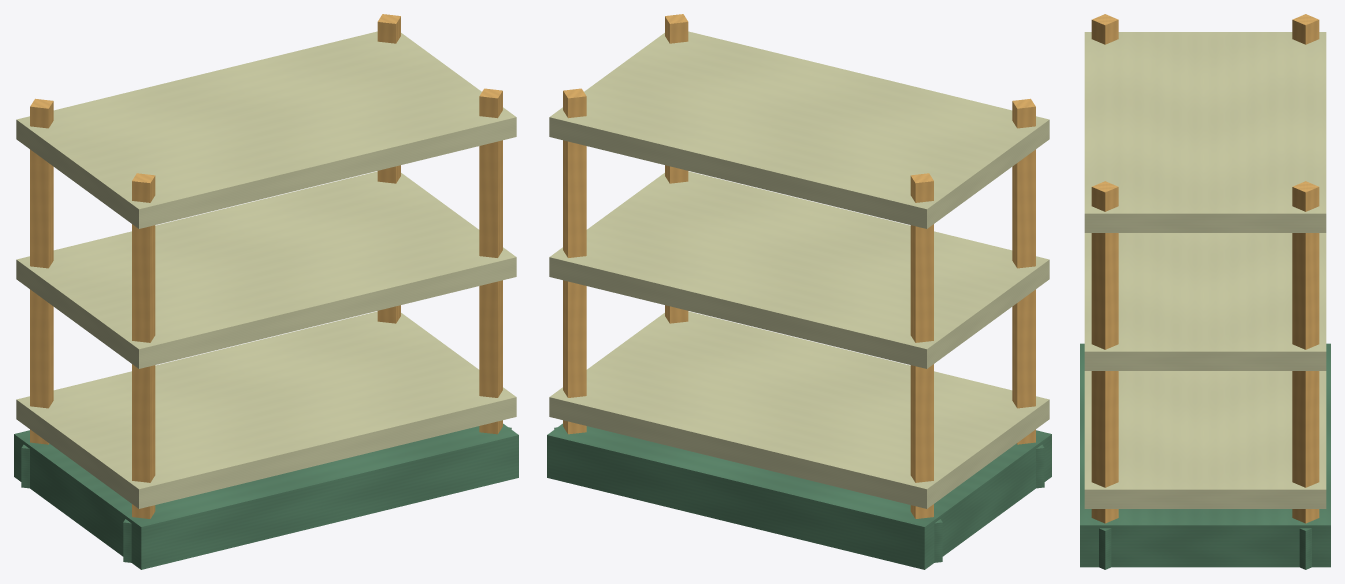
File: atlas100-s001-a06.lod2.glb
3 renders of one model, left to right at view 1: azimuth 30°, elevation 25°; view 2: azimuth 150°, elevation 25°; view 3: azimuth 270°, elevation 25°, orthographic.
Parts seen in each view (by area): view 1: atlas100-s001-a06:part-013, atlas100-s001-a06:part-011, atlas100-s001-a06:part-012, atlas100-s001-a06:part-000, atlas100-s001-a06:part-005, atlas100-s001-a06:part-009, atlas100-s001-a06:part-003, atlas100-s001-a06:part-007; view 2: atlas100-s001-a06:part-013, atlas100-s001-a06:part-011, atlas100-s001-a06:part-012, atlas100-s001-a06:part-000, atlas100-s001-a06:part-003, atlas100-s001-a06:part-007, atlas100-s001-a06:part-005, atlas100-s001-a06:part-009; view 3: atlas100-s001-a06:part-013, atlas100-s001-a06:part-011, atlas100-s001-a06:part-012, atlas100-s001-a06:part-000, atlas100-s001-a06:part-007, atlas100-s001-a06:part-009, atlas100-s001-a06:part-003, atlas100-s001-a06:part-005, atlas100-s001-a06:part-008, atlas100-s001-a06:part-010.
Part boxes in pixels (bbox=[...]): atlas100-s001-a06:part-013: bbox=[16, 31, 516, 228]; atlas100-s001-a06:part-011: bbox=[16, 311, 516, 508]; atlas100-s001-a06:part-012: bbox=[16, 171, 516, 368]; atlas100-s001-a06:part-000: bbox=[14, 423, 518, 569]; atlas100-s001-a06:part-005: bbox=[132, 173, 155, 518]; atlas100-s001-a06:part-009: bbox=[479, 88, 502, 434]; atlas100-s001-a06:part-003: bbox=[30, 98, 53, 444]; atlas100-s001-a06:part-007: bbox=[377, 14, 400, 323]; atlas100-s001-a06:part-013: bbox=[549, 31, 1049, 228]; atlas100-s001-a06:part-011: bbox=[549, 311, 1049, 508]; atlas100-s001-a06:part-012: bbox=[549, 171, 1049, 368]; atlas100-s001-a06:part-000: bbox=[547, 423, 1051, 569]; atlas100-s001-a06:part-003: bbox=[910, 173, 933, 518]; atlas100-s001-a06:part-007: bbox=[563, 88, 586, 434]; atlas100-s001-a06:part-005: bbox=[1012, 98, 1035, 444]; atlas100-s001-a06:part-009: bbox=[665, 14, 688, 323]; atlas100-s001-a06:part-013: bbox=[1084, 32, 1326, 232]; atlas100-s001-a06:part-011: bbox=[1084, 371, 1326, 508]; atlas100-s001-a06:part-012: bbox=[1084, 233, 1326, 370]; atlas100-s001-a06:part-000: bbox=[1080, 343, 1330, 567]; atlas100-s001-a06:part-007: bbox=[1292, 181, 1319, 523]; atlas100-s001-a06:part-009: bbox=[1091, 181, 1118, 523]; atlas100-s001-a06:part-003: bbox=[1292, 14, 1319, 44]; atlas100-s001-a06:part-005: bbox=[1091, 14, 1118, 44]; atlas100-s001-a06:part-008: bbox=[1299, 528, 1311, 569]; atlas100-s001-a06:part-010: bbox=[1099, 528, 1111, 569].
Bounding box in the file's own units: 2.47 × 2.3 × 1.4.
Materials: 3 (3 with a texture image).
